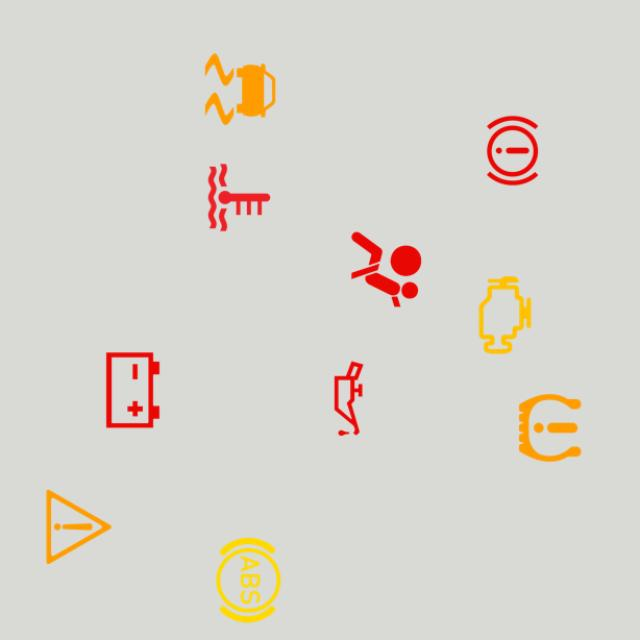Anti Lock Braking System: (202, 534, 295, 626)
Braking System Issue: (466, 104, 559, 197)
Charging System Issue: (86, 344, 180, 437)
Check Engine: (458, 269, 552, 362)
Electronic Stability Problem -ESP-: (194, 42, 287, 136)
Engine Overheating Warning Light: (192, 151, 286, 244)
Low Engine Oil Warning Light: (302, 352, 395, 445)
Low Tire Pressure Warning Light: (504, 382, 596, 474)
Master warning light: (32, 481, 125, 574)
SRS-Airbag: (340, 223, 432, 316)
